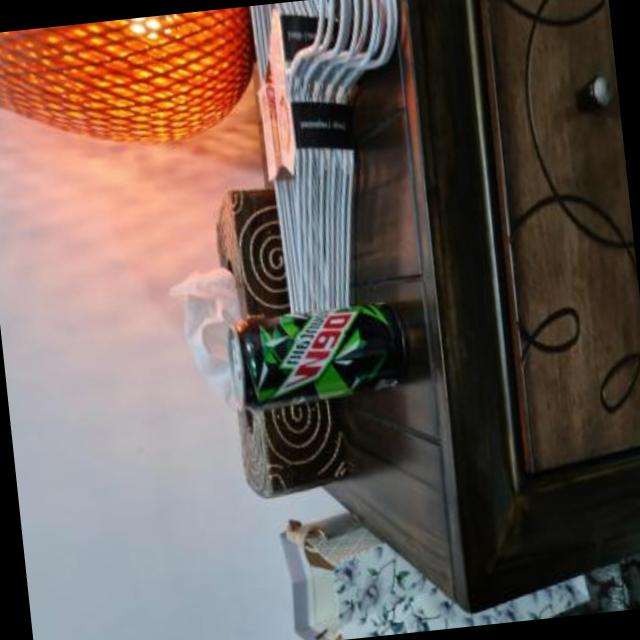metal: (228, 304, 402, 408)
